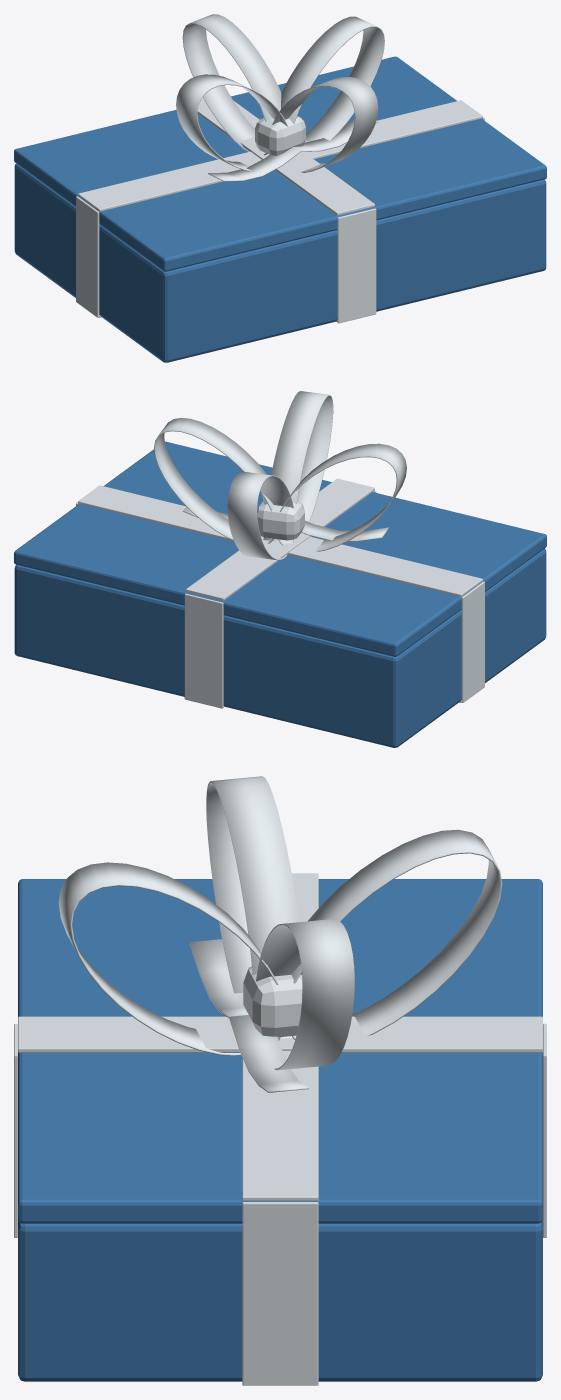
Rendered from present_flat_blue.glb.
3 renders of one model, top to bottom at view 1: azimuth 30°, elevation 25°; view 2: azimuth 150°, elevation 25°; view 3: azimuth 270°, elevation 25°, orthographic. The views are drawn at different scales.
Visible parts, largest first — view 1: Flat blue gift box, Flat blue fitted lid, Ribbon across lid width, Curved bow loop 3, Curved bow loop 1, Ribbon over front and back, Ribbon across lid depth, Curved bow loop 4, Ribbon over left and right, Curved bow loop 2, Ribbon center knot, Bow ribbon tail (+1 smaller); view 2: Flat blue gift box, Flat blue fitted lid, Ribbon across lid width, Curved bow loop 4, Ribbon across lid depth, Ribbon over front and back.001, Curved bow loop 1, Curved bow loop 3, Ribbon over left and right, Curved bow loop 2, Ribbon center knot, Bow ribbon tail; view 3: Flat blue fitted lid, Flat blue gift box, Ribbon over left and right.001, Ribbon across lid depth, Curved bow loop 2, Ribbon across lid width, Curved bow loop 3, Curved bow loop 1, Curved bow loop 4, Ribbon center knot, Bow ribbon tail.001, Bow ribbon tail (+2 smaller).
Part boxes in pixels (x1,y1,x2,y2): Flat blue gift box: (14,163,546,362); Flat blue fitted lid: (14,56,546,271); Ribbon across lid width: (78,100,482,211); Curved bow loop 3: (182,14,281,155); Curved bow loop 1: (281,16,384,155); Ribbon over front and back: (337,208,376,323); Ribbon across lid depth: (197,98,374,215); Curved bow loop 4: (272,77,378,172); Ribbon over left and right: (76,196,99,317); Curved bow loop 2: (176,74,287,171); Ribbon center knot: (255,116,305,155); Bow ribbon tail: (208,147,300,181); Flat blue gift box: (14,548,546,747); Flat blue fitted lid: (14,441,546,656); Ribbon across lid width: (78,485,482,596); Curved bow loop 4: (271,391,333,521); Ribbon across lid depth: (186,478,374,600); Ribbon over front and back.001: (184,593,223,708); Curved bow loop 1: (154,418,273,543); Curved bow loop 3: (227,471,293,560); Ribbon over left and right: (461,581,484,702); Curved bow loop 2: (278,443,406,551); Ribbon center knot: (257,501,304,540); Bow ribbon tail: (301,520,389,541); Flat blue fitted lid: (18,879,542,1223); Flat blue gift box: (18,1220,542,1381); Ribbon over left and right.001: (242,1202,318,1385); Ribbon across lid depth: (18,1016,542,1052); Curved bow loop 2: (206,776,299,993); Ribbon across lid width: (242,873,318,1201); Curved bow loop 3: (291,829,502,1039); Curved bow loop 1: (256,919,354,1070); Curved bow loop 4: (58,862,280,1055); Ribbon center knot: (243,966,302,1037); Bow ribbon tail.001: (229,1015,308,1092); Bow ribbon tail: (189,939,248,1017).
Size of the model in its own units: 0.576 by 0.2996 by 0.396.
